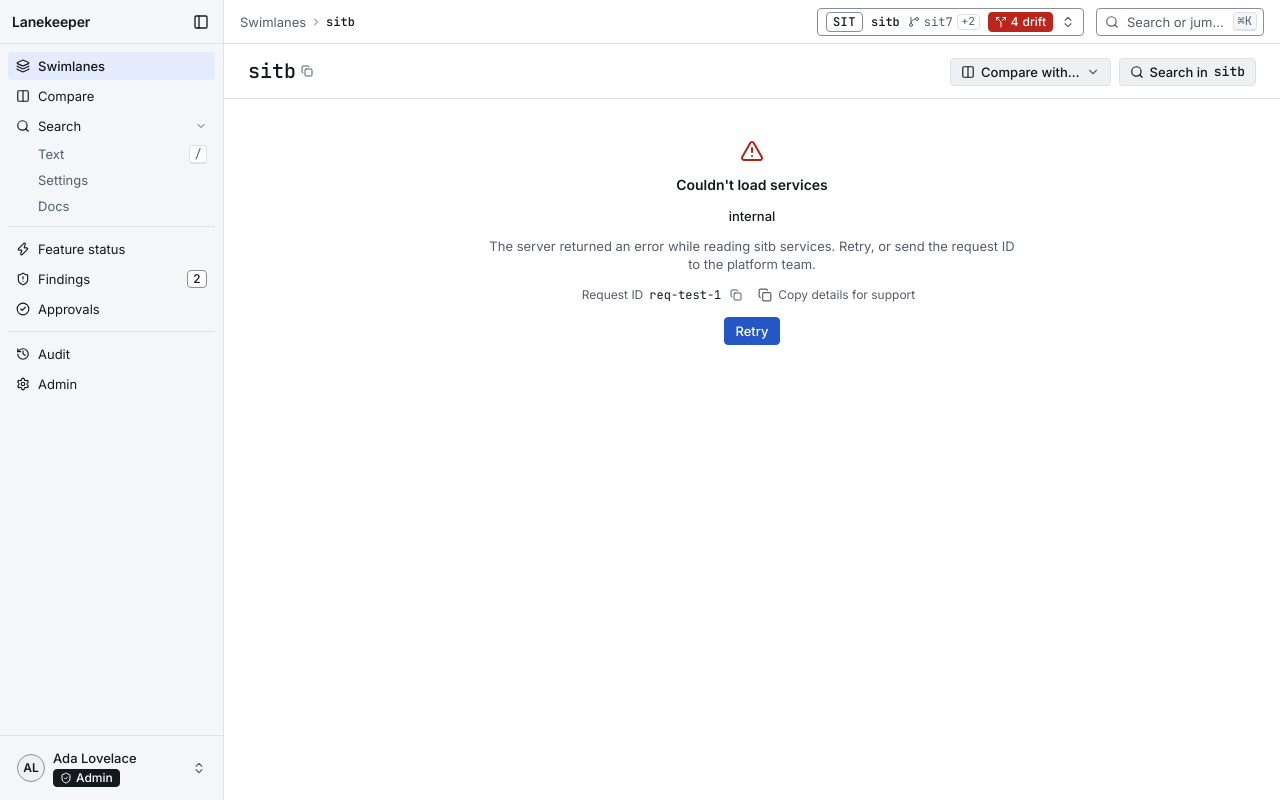
the states of the States index › shows the error with Retry for a failure that trying again can change
Expected: the heading "Couldn't load services" is shown, [676,175,828,195]
Click the button "Retry" at (752, 331), box [724,317,780,345]
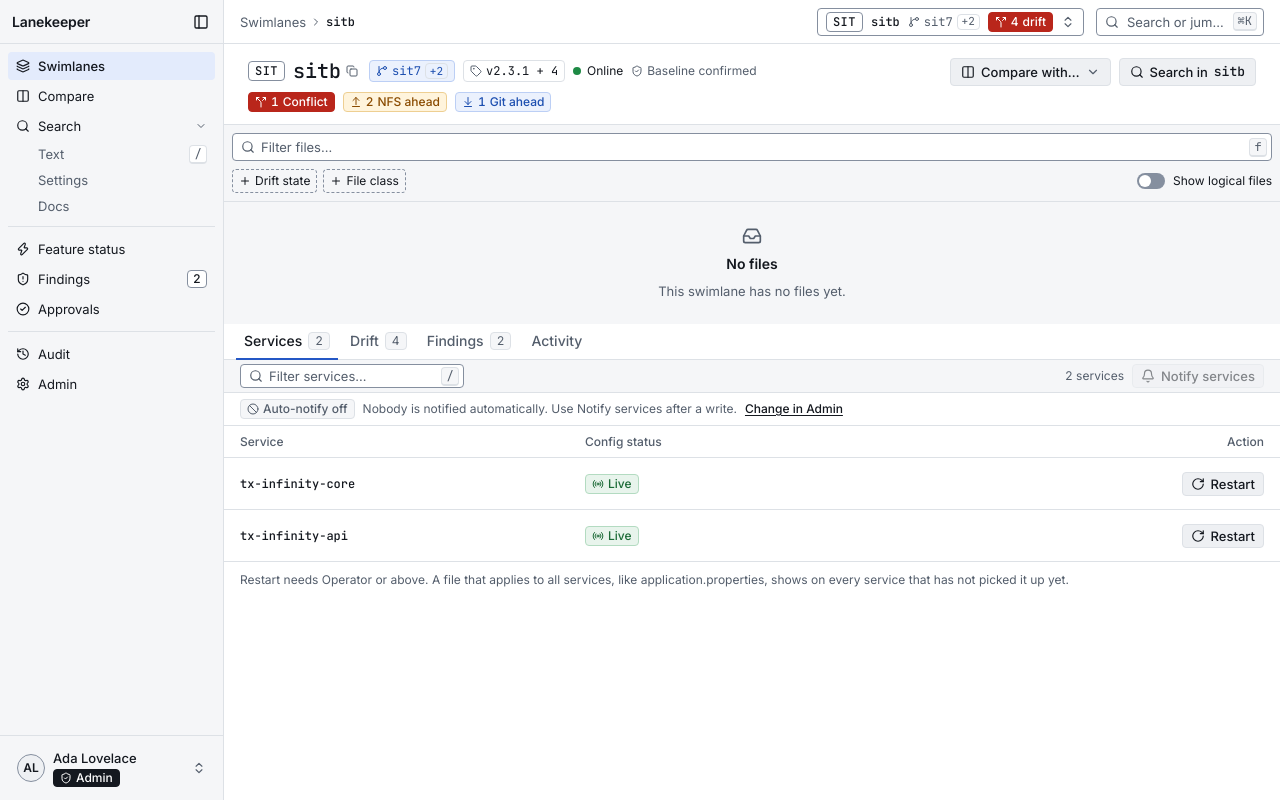
Result: the text "Baseline confirmed" is shown at [631,63,757,79]
